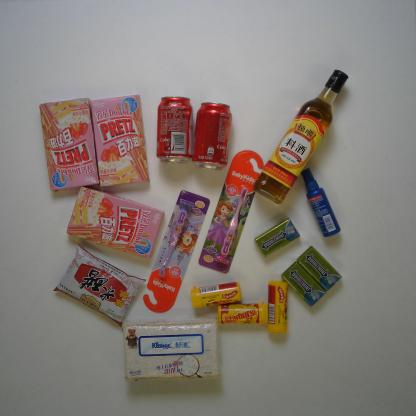Candy: (188, 279, 244, 310), (214, 300, 270, 327), (264, 279, 290, 336)
Dessert: (64, 184, 166, 260), (87, 93, 152, 189), (37, 96, 101, 193)
Drink: (190, 100, 233, 173), (154, 94, 195, 165)
Gum: (279, 259, 328, 309), (295, 244, 343, 293), (252, 215, 301, 260)
Personal Hygiene: (196, 147, 266, 276), (141, 188, 212, 314), (298, 166, 342, 238)
Seasoner: (252, 68, 350, 206), (51, 241, 148, 330)
Tissue: (121, 318, 224, 382)
